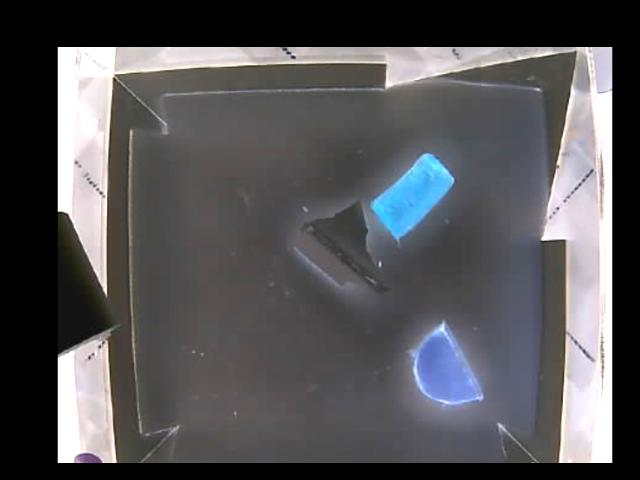Carrot: (374, 152, 455, 239)
China: (292, 199, 384, 293)
Potato: (414, 320, 487, 400)
